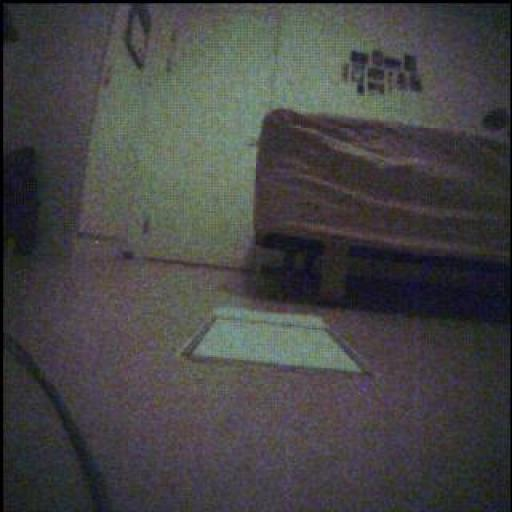pad: (182, 309, 369, 376)
